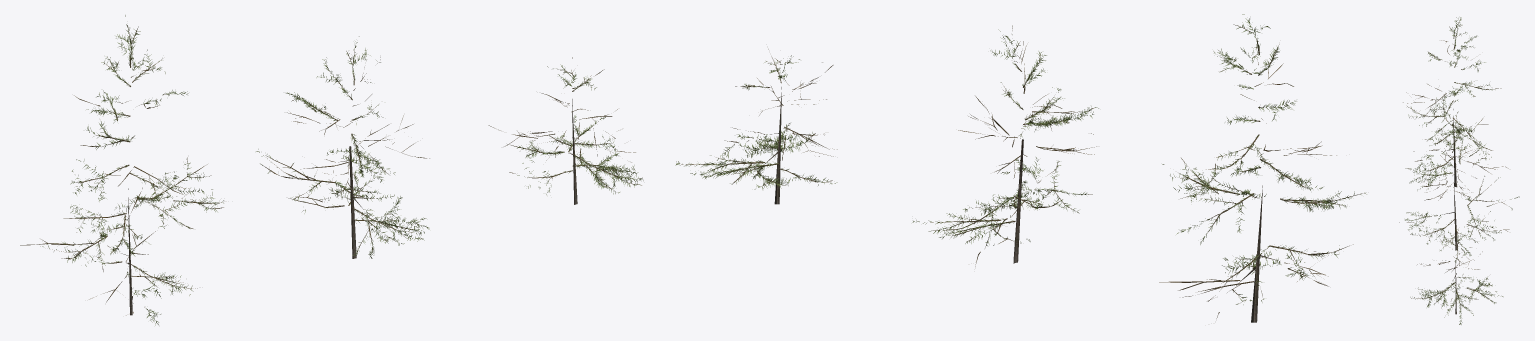
Rendered from fir_sapling.glb.
3 views of the same model, side by side, from view 1: azimuth 30°, elevation 25°; view 2: azimuth 150°, elevation 25°; view 3: azimuth 270°, elevation 25° (orthographic). The views are drawn at different scales.
Parts seen in each view (by area): view 1: fir_sapling_a; view 2: fir_sapling_a; view 3: fir_sapling_a.
Part boxes in pixels (x1,y1,x2,y2): fir_sapling_a: [20, 15, 643, 325]; fir_sapling_a: [675, 14, 1366, 322]; fir_sapling_a: [1399, 17, 1519, 324].
Size of the model in its own units: 2.73 by 1.26 by 0.807.
2 materials, 2 textured.
